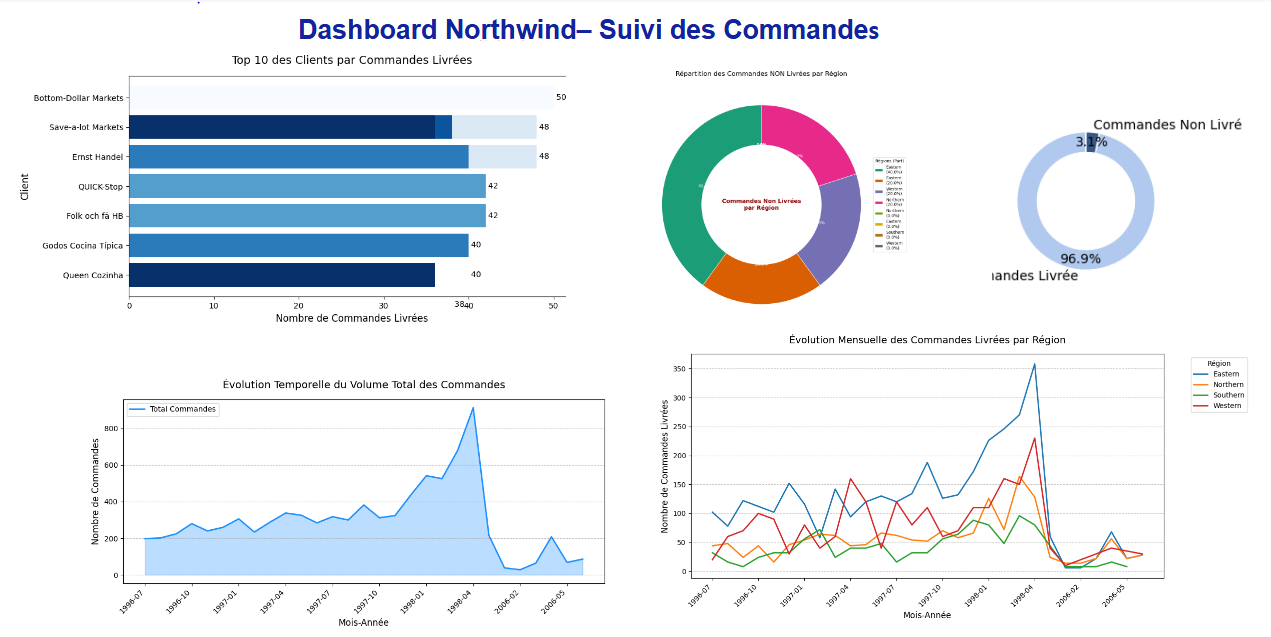

Layout of this report page (visuals, bound fields, positions):
{"tool":"powerbi","page":{"name":"Page 1","canvas":[1280,720],"ordinal":0},"visuals":[{"type":"pythonVisual","fields":{"Values":["TF_Commande.Nmbr_Commande_livree","TF_Commande.Nmbr_Commande_Non_livree","TF_Commande.mois_annee","Dim_Client.CompanyName"]},"box":[99.9,60.2,576.7,422.6],"z":0},{"type":"pythonVisual","fields":{"Values":["TF_Commande.mois_annee","TF_Commande.Nmbr_Commande_livree","TF_Commande.Nmbr_Commande_Non_livree"]},"box":[68.6,422.6,642.9,297.4],"z":1},{"type":"pythonVisual","fields":{"Values":["TF_Commande.Nmbr_Commande_livree","TF_Commande.Nmbr_Commande_Non_livree","Dim_employee.Region"]},"box":[769.4,80.7,393.7,341.9],"z":2},{"type":"pythonVisual","fields":{"Values":["TF_Commande.mois_annee","TF_Commande.Nmbr_Commande_livree","TF_Commande.Nmbr_Commande_Non_livree","Dim_employee.Region"]},"box":[733.2,446.7,499.7,273.3],"z":3},{"type":"textbox","box":[209.6,19.4,699.5,52.4],"z":4}]}

Visuals, with their boxes on the page's 1280x720 design canvas (x1, y1, x2, y2). These are canvas units, not pixel positions in the 1271x637 screenshot, which may show the page scaled, cropped or inside an application window:
pythonVisual - TF_Commande.Nmbr_Commande_livree x TF_Commande.Nmbr_Commande_Non_livree: [left=100, top=60, right=677, bottom=483]
pythonVisual - TF_Commande.mois_annee x TF_Commande.Nmbr_Commande_livree: [left=69, top=423, right=712, bottom=720]
pythonVisual - TF_Commande.Nmbr_Commande_livree x TF_Commande.Nmbr_Commande_Non_livree: [left=769, top=81, right=1163, bottom=423]
pythonVisual - TF_Commande.mois_annee x TF_Commande.Nmbr_Commande_livree: [left=733, top=447, right=1233, bottom=720]
textbox: [left=210, top=19, right=909, bottom=72]
